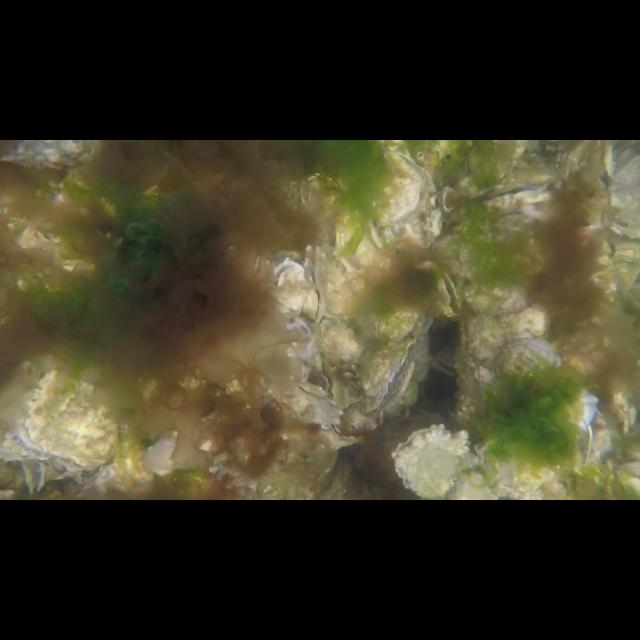Oyster-Closed: (493, 338, 599, 428), (475, 432, 555, 498), (364, 140, 422, 226), (332, 205, 388, 292), (462, 311, 508, 409), (262, 382, 344, 431), (316, 318, 366, 384), (0, 140, 102, 172), (324, 242, 361, 320), (464, 278, 534, 314), (590, 262, 640, 298), (450, 468, 500, 499), (146, 429, 178, 476)
Oyster-Open: (13, 369, 115, 471), (392, 424, 470, 500), (466, 180, 560, 232), (361, 338, 417, 412), (601, 153, 640, 240), (376, 298, 434, 346), (270, 254, 306, 318), (596, 392, 636, 441), (302, 244, 326, 322), (297, 362, 339, 406), (320, 422, 364, 451), (436, 272, 462, 318), (592, 140, 614, 192), (426, 346, 459, 380), (21, 460, 47, 494), (424, 210, 444, 238)
